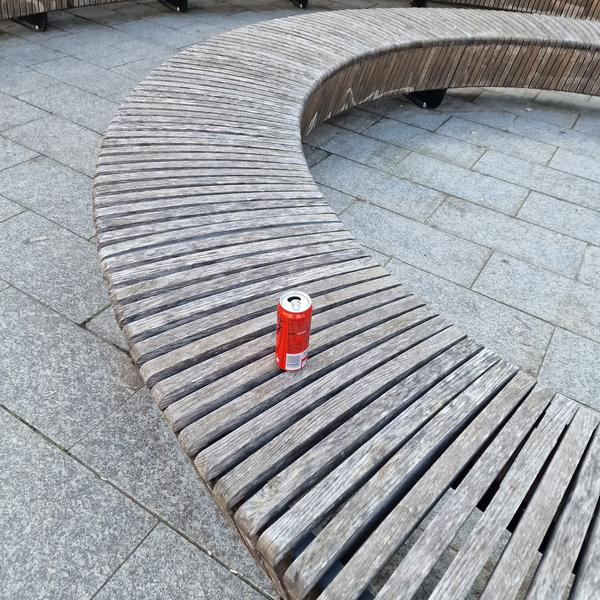can: (270, 288, 315, 374)
